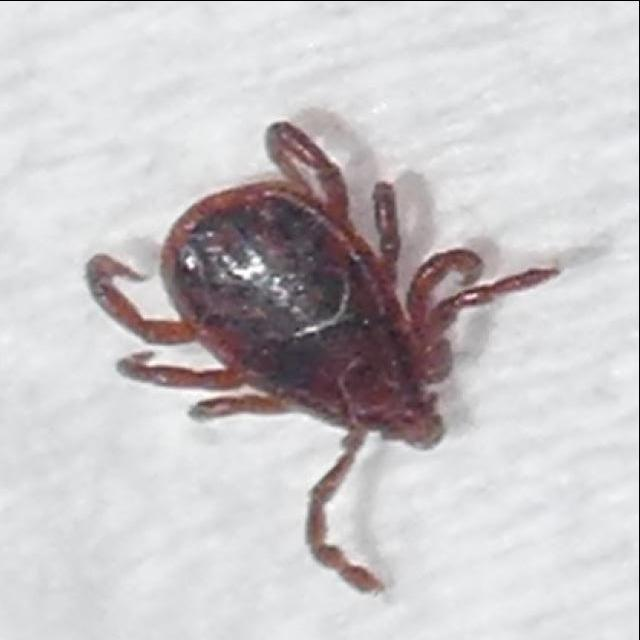Rhipicephalus Sanguineus-M: (86, 118, 563, 594)
